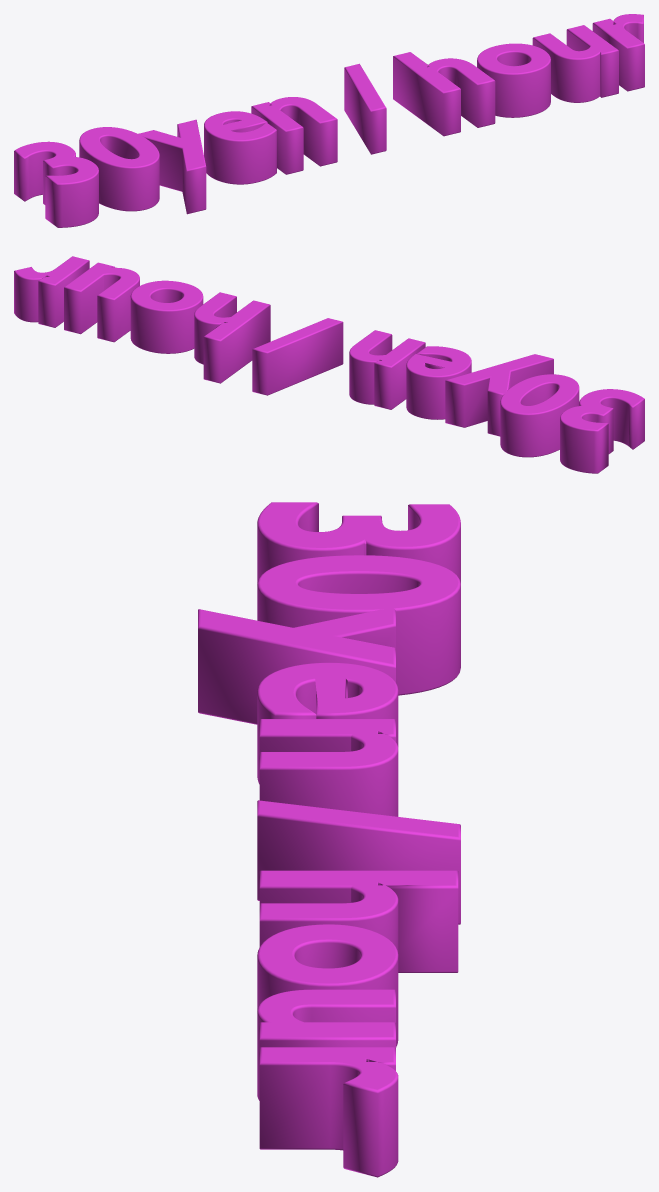
Rendered from actest.glb.
3 views of the same model, one above another, from view 1: azimuth 30°, elevation 25°; view 2: azimuth 150°, elevation 25°; view 3: azimuth 270°, elevation 25° (orthographic). The views are drawn at different scales.
Parts seen in each view (by area): view 1: Object; view 2: Object; view 3: Object.
Part boxes in pixels (<box>): Object: <box>14,14,644,227</box>; Object: <box>14,256,644,473</box>; Object: <box>198,502,460,1177</box>.
Size of the model in its own units: 5.21 by 0.36 by 0.9811.
